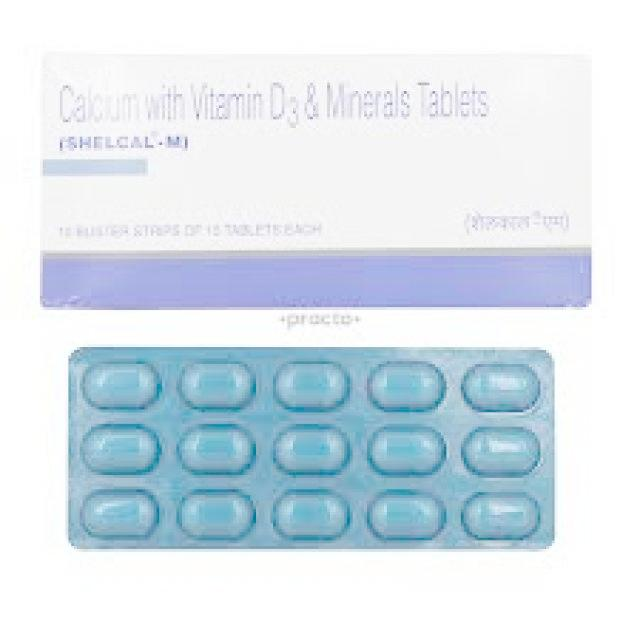authentic: (33, 45, 605, 315), (58, 335, 567, 567)
